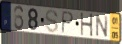6: (13, 6, 24, 32)
8: (27, 8, 39, 32)
H: (79, 13, 94, 38)
N: (95, 14, 110, 39)
P: (60, 10, 75, 35)
S: (45, 9, 60, 34)
